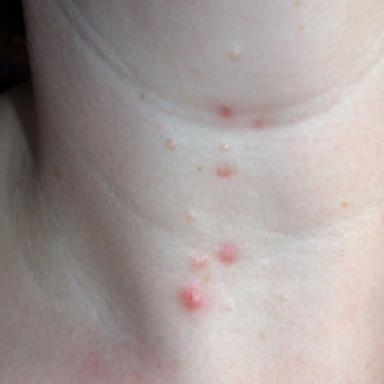Molluscum-Contagiosum: (181, 285, 203, 308), (218, 243, 237, 263), (192, 251, 209, 269), (229, 45, 242, 61), (217, 167, 232, 177), (186, 210, 197, 222), (165, 138, 175, 150), (221, 141, 229, 151)
